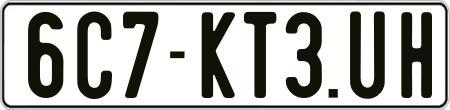3: (284, 11, 326, 101)
6: (27, 12, 65, 104)
7: (120, 9, 158, 96)
C: (74, 12, 114, 103)
H: (398, 12, 430, 103)
K: (201, 9, 237, 99)
T: (241, 10, 275, 96)
U: (348, 10, 388, 98)
